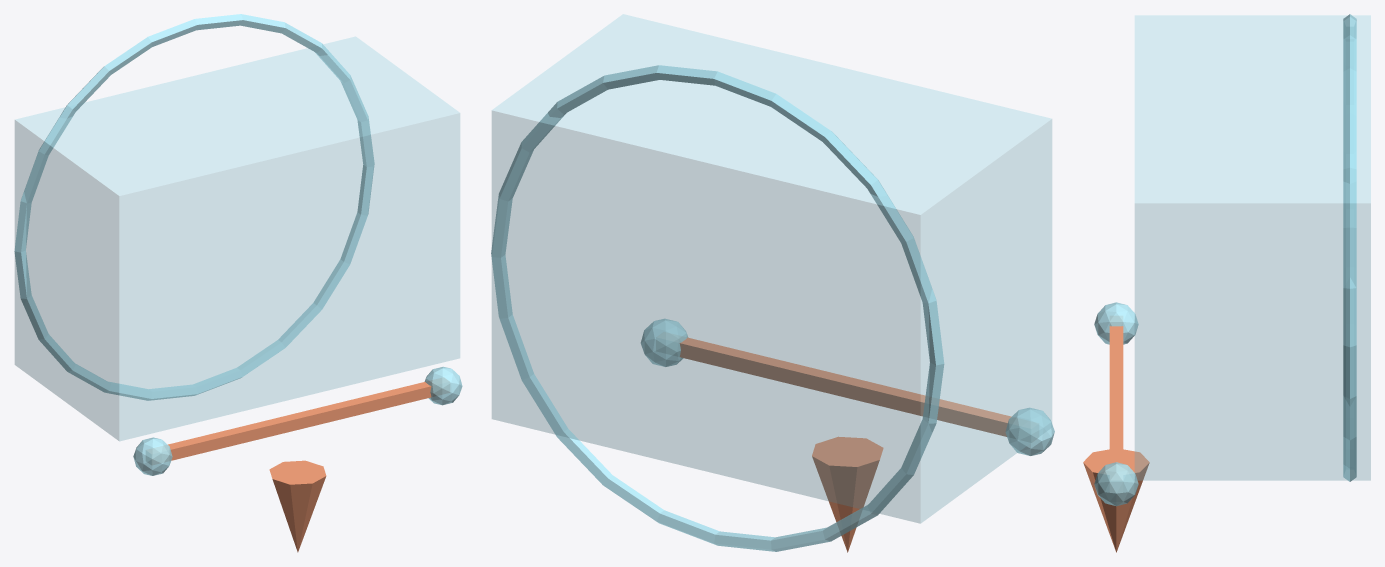
The model's file is 06_dynamic_combat_camera_trigger.glb.
The picture shows the model from 3 angles, left to right: view 1: azimuth 30°, elevation 25°; view 2: azimuth 150°, elevation 25°; view 3: azimuth 270°, elevation 25°; orthographic projection. The views are drawn at different scales.
Parts seen in each view (by area): view 1: combat_camera_volume, combat_start_ring, camera_rail, look_direction, camera_anchor_a, camera_anchor_b; view 2: combat_camera_volume, combat_start_ring, camera_rail, look_direction, camera_anchor_a, camera_anchor_b; view 3: combat_camera_volume, combat_start_ring, look_direction, camera_rail, camera_anchor_b, camera_anchor_a.
Part boxes in pixels (x1,y1,x2,y2): combat_camera_volume: [15, 36, 459, 441]; combat_start_ring: [14, 14, 374, 400]; camera_rail: [146, 378, 449, 464]; look_direction: [269, 460, 326, 552]; camera_anchor_a: [133, 437, 172, 475]; camera_anchor_b: [424, 366, 462, 405]; combat_camera_volume: [492, 14, 1051, 523]; combat_start_ring: [491, 65, 944, 551]; camera_rail: [679, 337, 1011, 436]; look_direction: [812, 436, 883, 552]; camera_anchor_a: [1005, 407, 1054, 455]; camera_anchor_b: [641, 318, 687, 366]; combat_camera_volume: [1135, 15, 1370, 480]; combat_start_ring: [1343, 14, 1356, 481]; look_direction: [1083, 449, 1149, 552]; camera_rail: [1109, 316, 1123, 492]; camera_anchor_b: [1094, 462, 1138, 506]; camera_anchor_a: [1094, 302, 1138, 344].
Bounding box in the file's own units: 1.69 × 2.06 × 1.03.
